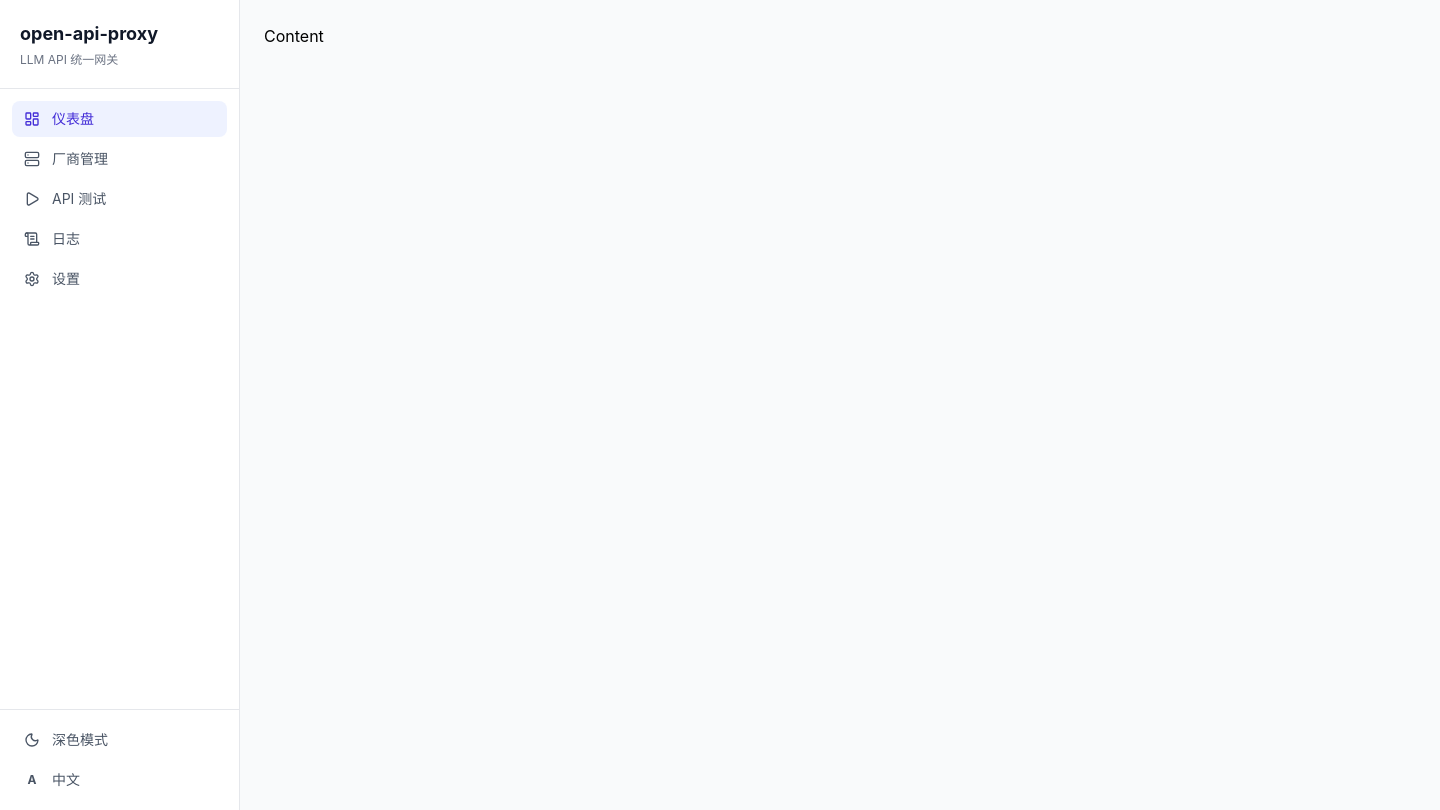
Layout › Dark mode toggle › toggles dark mode when clicked
Click the button with aria-label "切换深色模式" at (120, 740), box x1=12 y1=722 x2=227 y2=758
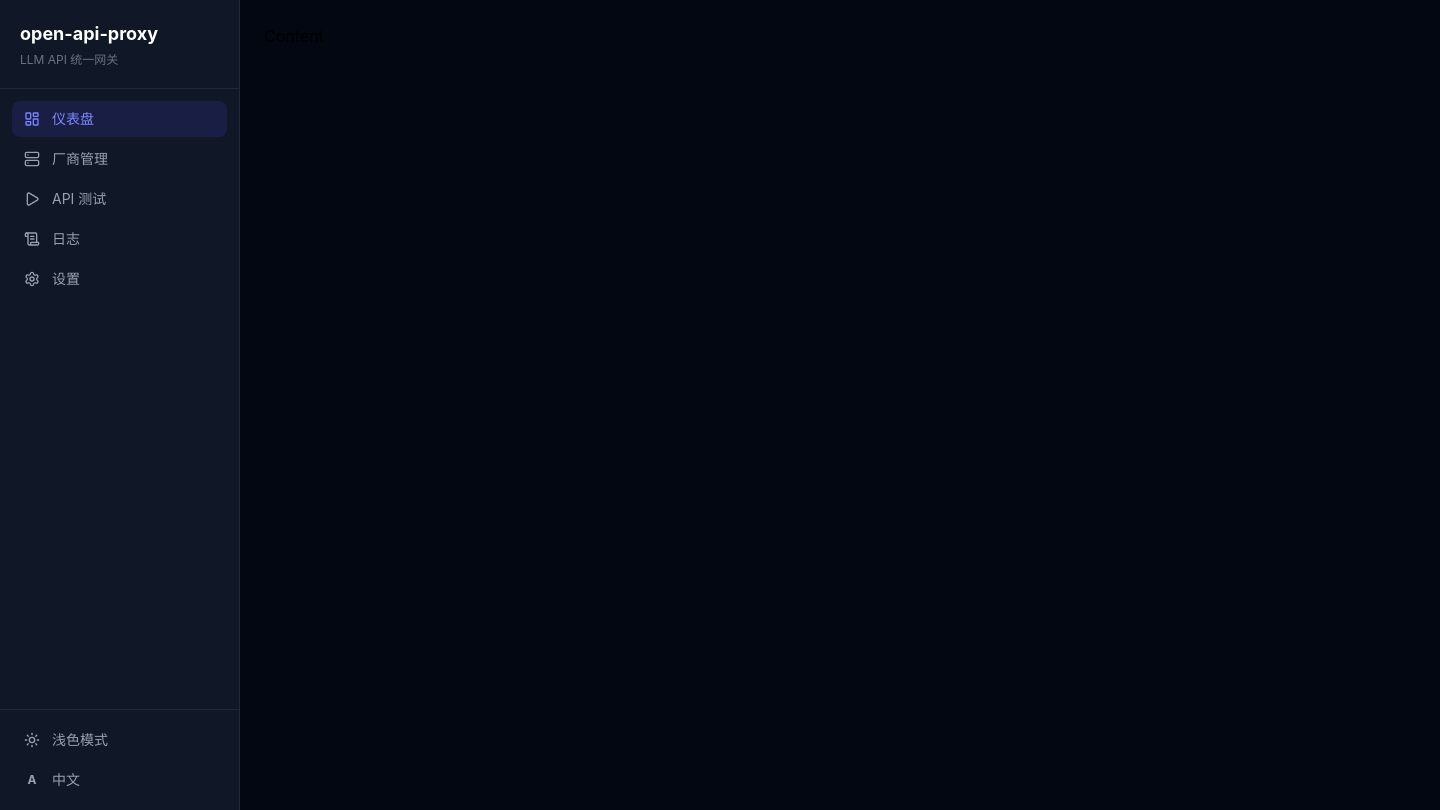
expect the button with aria-label "切换浅色模式" is shown: met, box x1=12 y1=722 x2=227 y2=758
